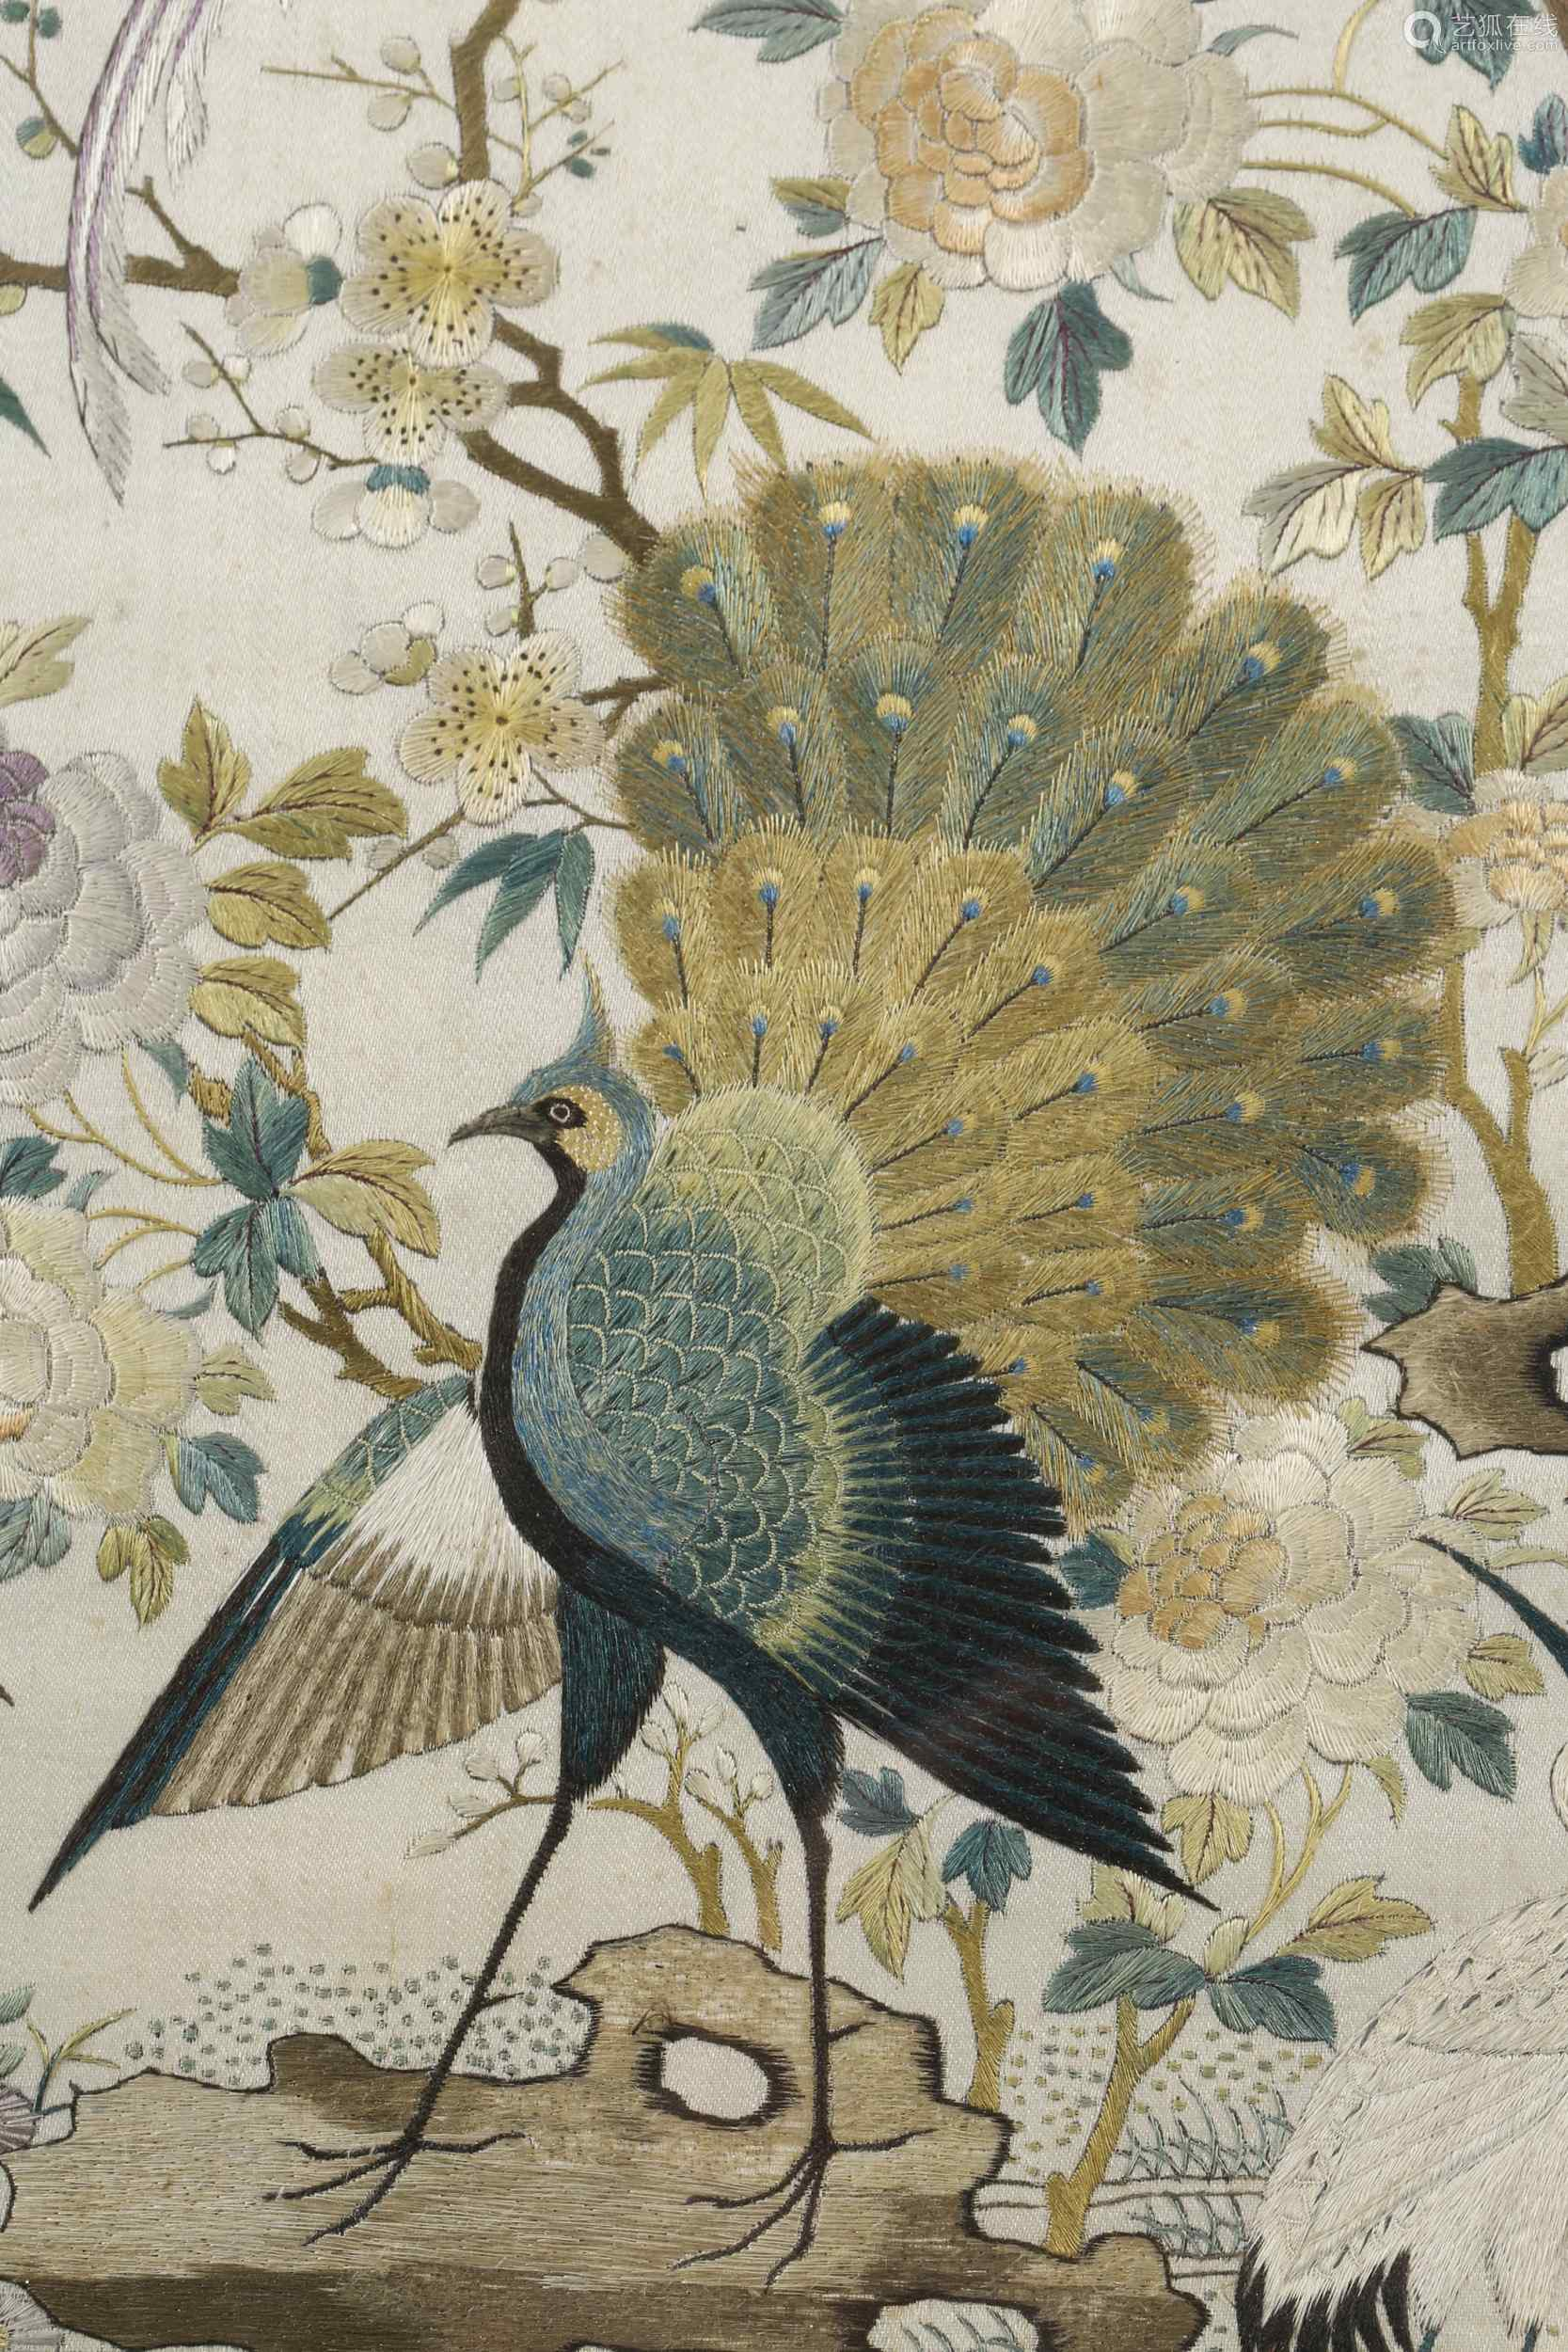flower: (1102, 1407, 1542, 1804), (817, 2, 1244, 306), (2, 740, 203, 1097), (3, 1202, 206, 1528), (390, 628, 611, 835), (331, 177, 567, 359), (311, 339, 523, 469), (1458, 766, 1568, 924)
peacock: (21, 444, 1515, 2294)
